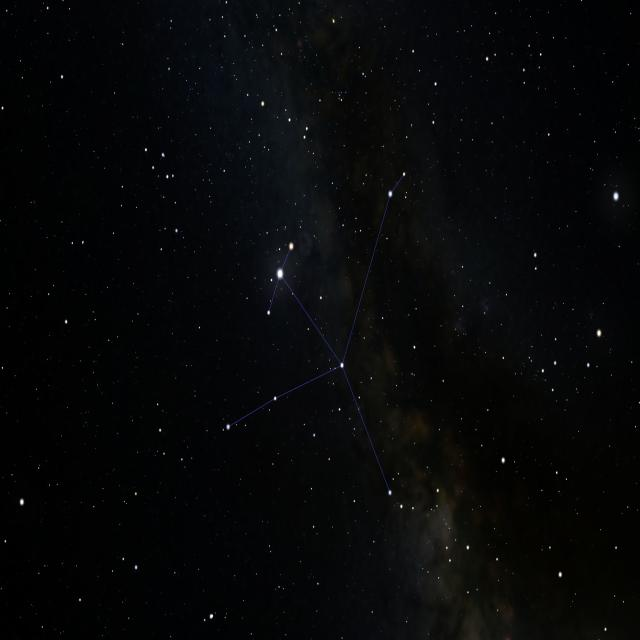Aquila: (205, 154, 417, 504)
